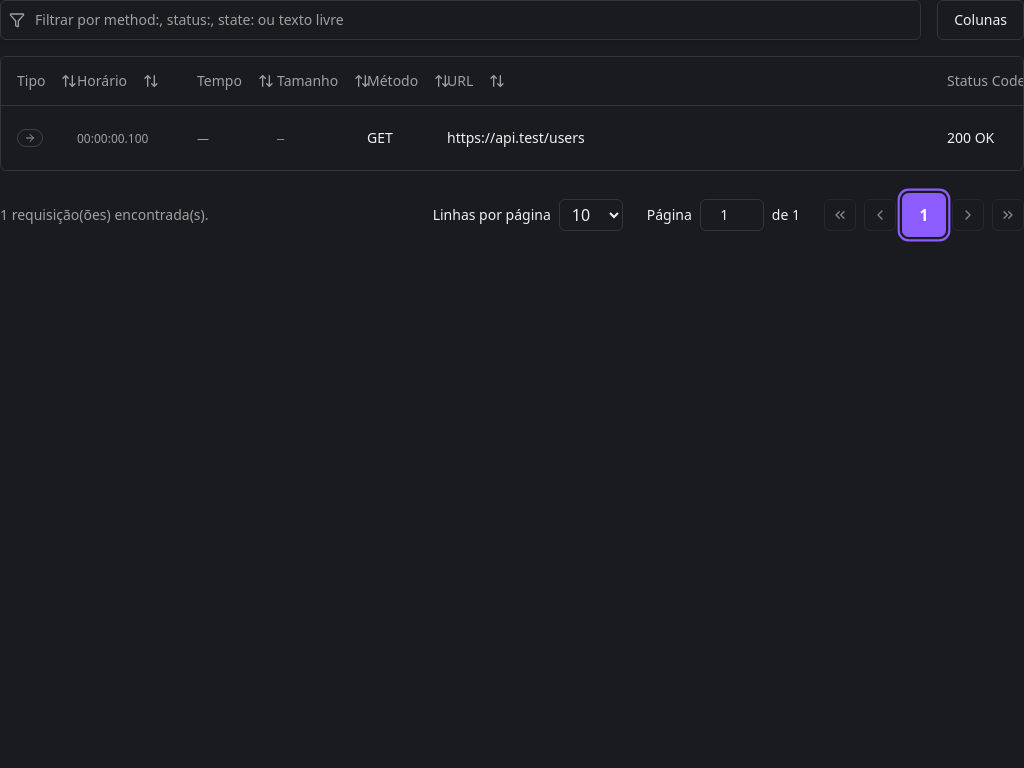
Test: ReplayRequestsTab › click em linha abre drawer com aba Response renderizando headers + body
# A tabela do command-center registra onClick na célula da URL.
Click the text "https://api.test/users": click(516, 137) [447, 128, 585, 146]
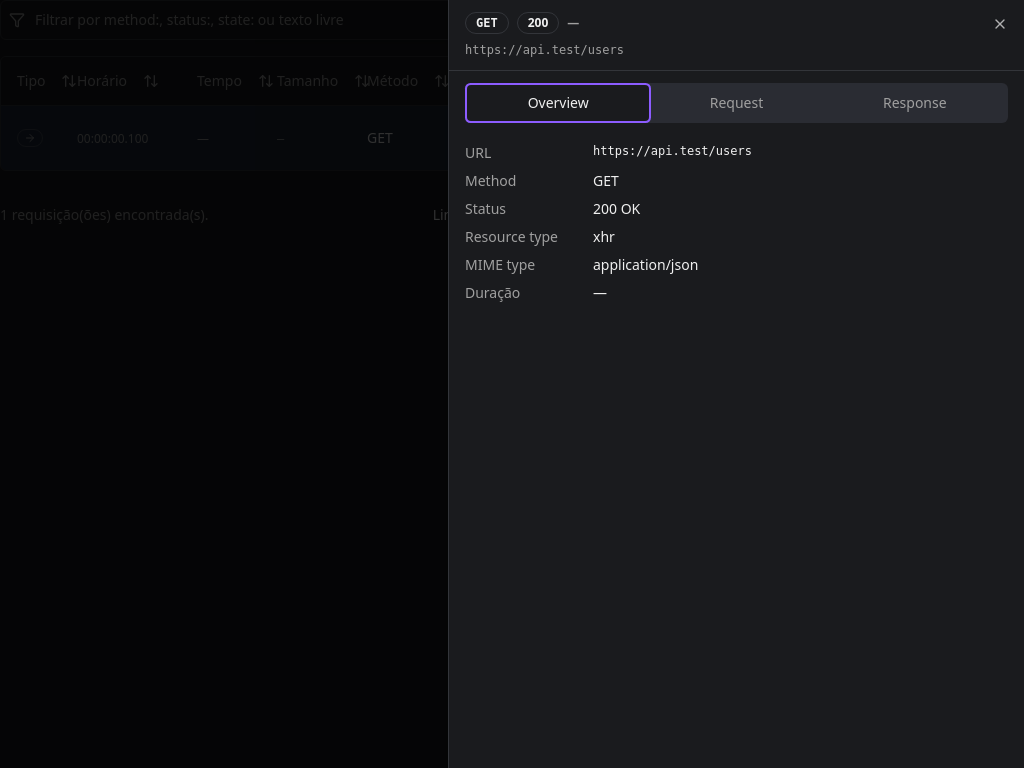
Result: the text "Resource type" is shown at [465, 227, 558, 246]
# Switcha pra Response — headers da resposta + body devem renderizar.
Press the mouse on the tab "Response": (915, 103) [826, 87, 1004, 119]
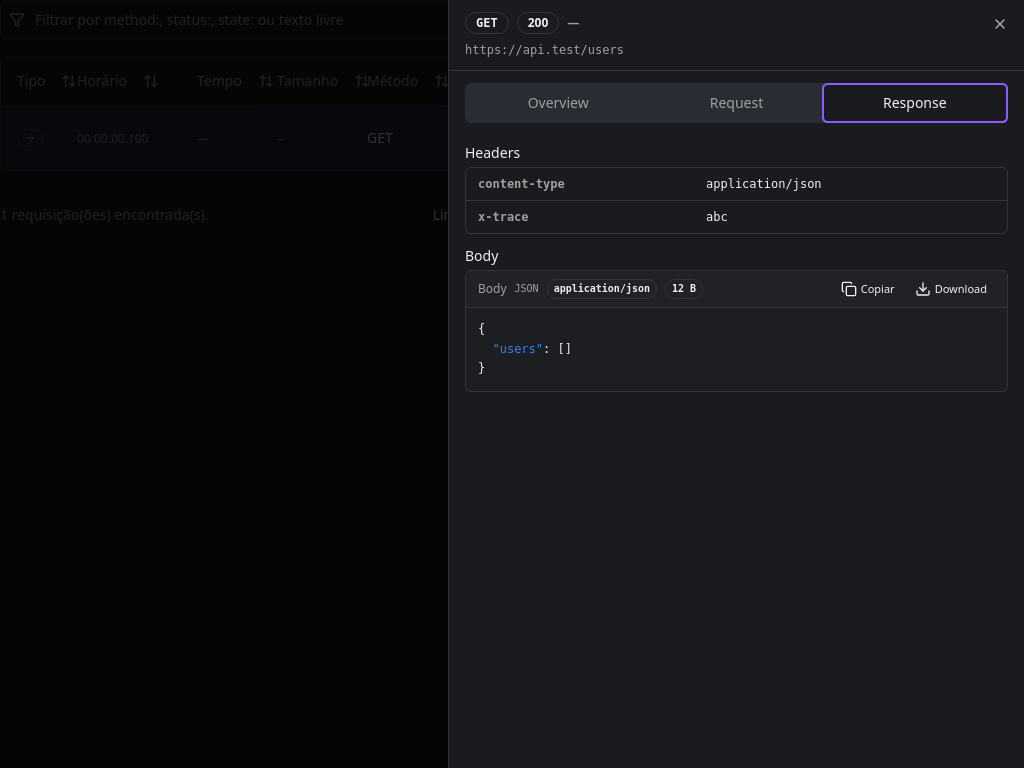
Result: the text "https://api.test/users" is shown at [465, 43, 624, 57]
Result: the text "x-trace" is shown at [478, 210, 529, 224]
# Switcha pra Request — header authorization aparece.
Press the mouse on the tab "Request": (736, 103) [647, 87, 826, 119]
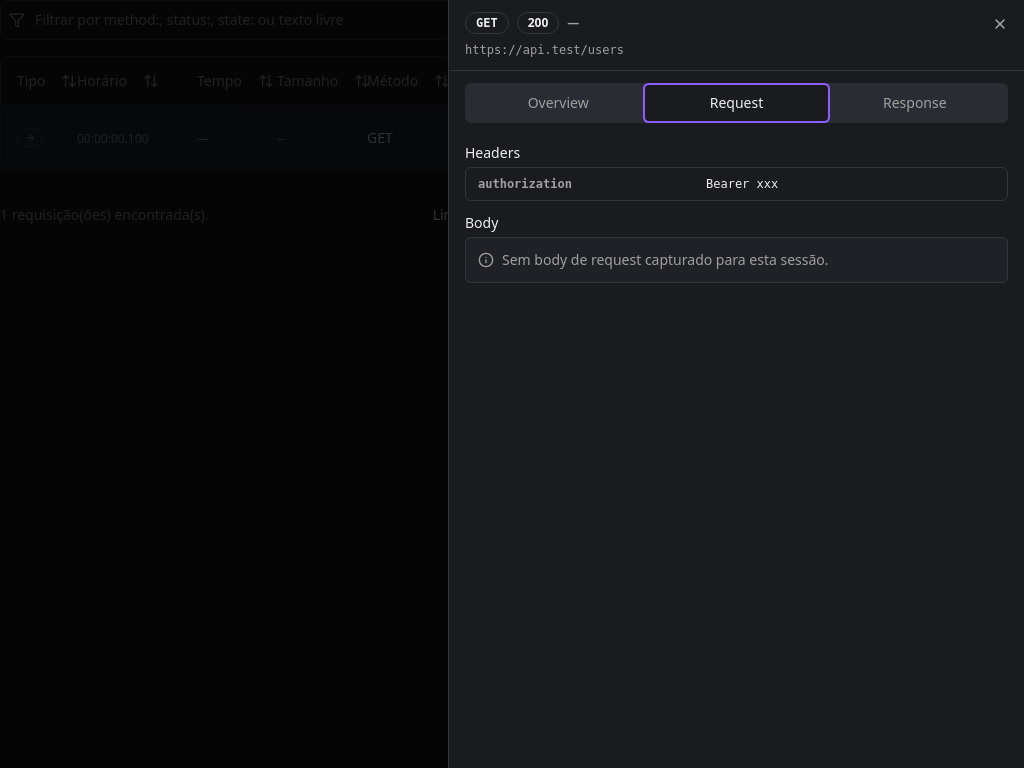
Result: the text "authorization" is shown at [478, 177, 572, 191]
